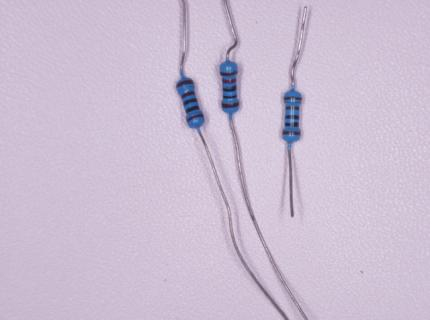Black band: (183, 97, 197, 106), (186, 105, 200, 114), (284, 115, 299, 120), (285, 123, 299, 127)
Brown band: (186, 113, 204, 123), (176, 80, 194, 89), (181, 91, 195, 99), (282, 132, 301, 136), (283, 97, 302, 100), (285, 107, 300, 110)
